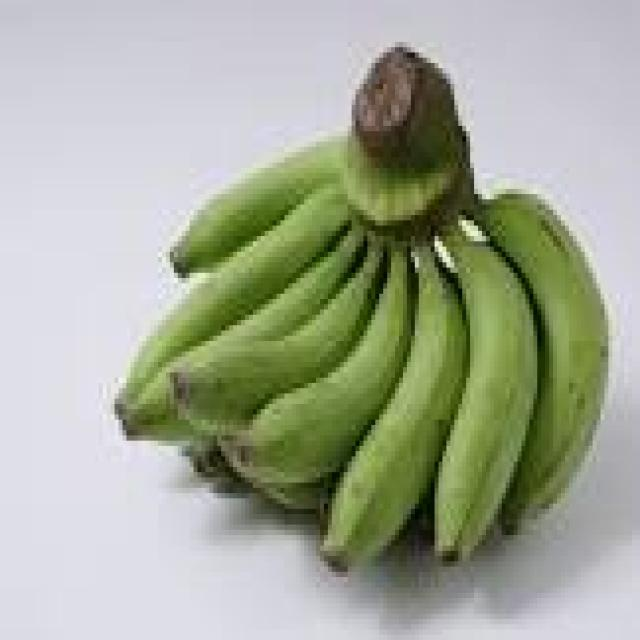banana: (123, 226, 363, 440), (123, 184, 351, 398), (320, 247, 466, 566), (226, 247, 414, 482), (479, 195, 608, 529), (170, 242, 383, 435), (435, 226, 537, 561), (170, 142, 343, 272), (186, 441, 335, 514), (182, 436, 248, 493), (253, 478, 335, 514)
